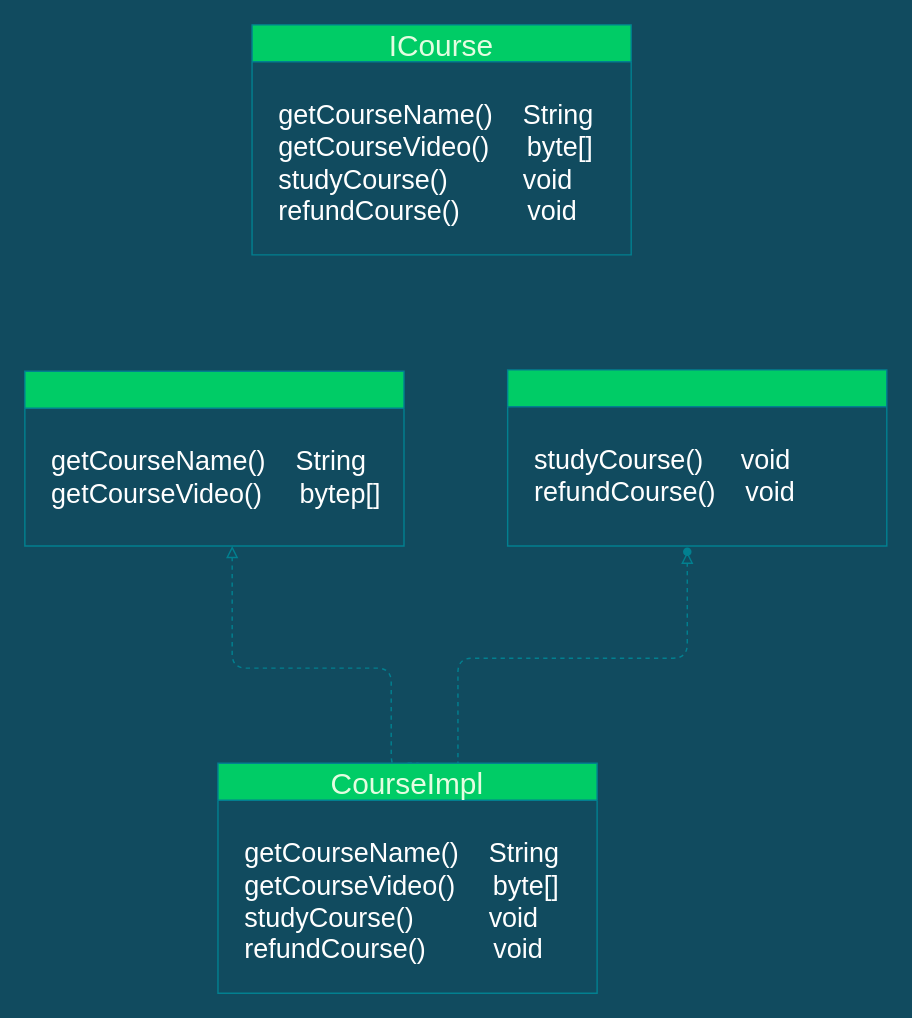
Some shapes in this 912 by 1018 pixel diagram are drawn without their labels. The box of each missing label's shape, as (x1, y1, x2, y2) in pixels:
ICourseInfo: (23, 370, 404, 546)
ICourseManager: (506, 368, 887, 546)
